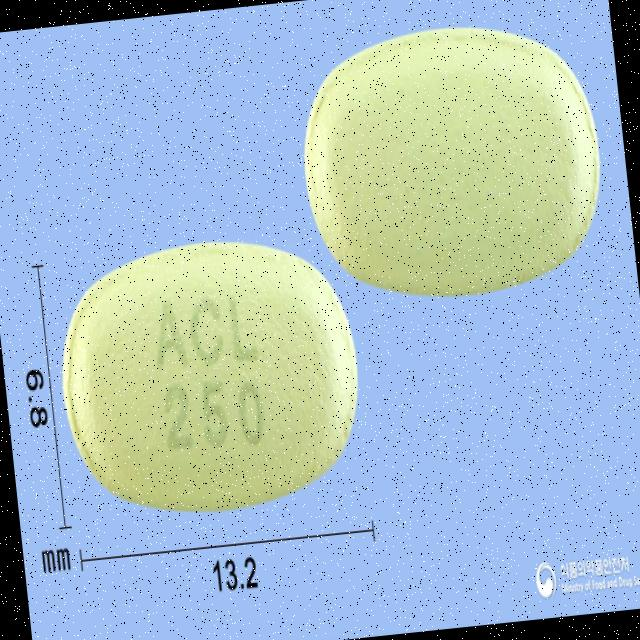Clorid: (290, 12, 614, 314), (48, 228, 373, 526)
